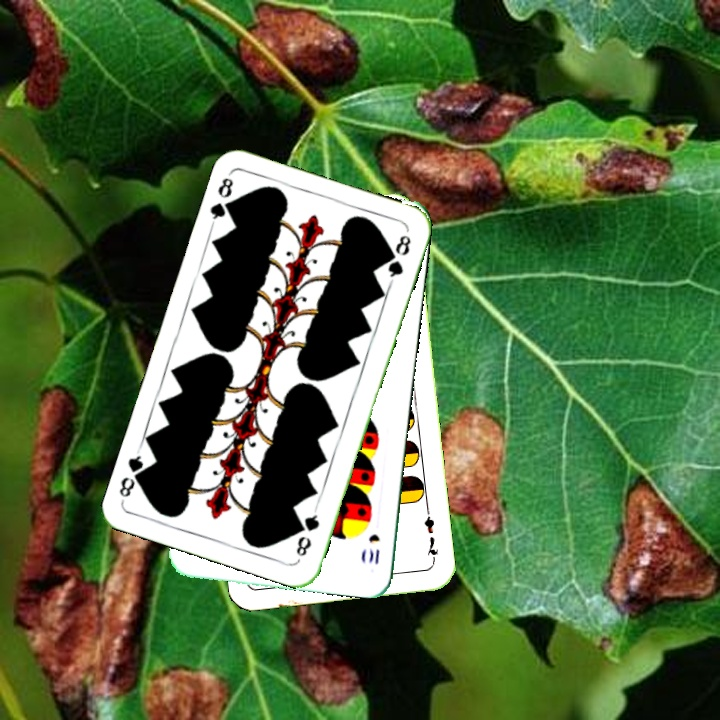E7: (420, 506, 441, 565)
G8: (206, 170, 238, 228), (292, 504, 322, 559)
S10: (364, 530, 382, 567)
